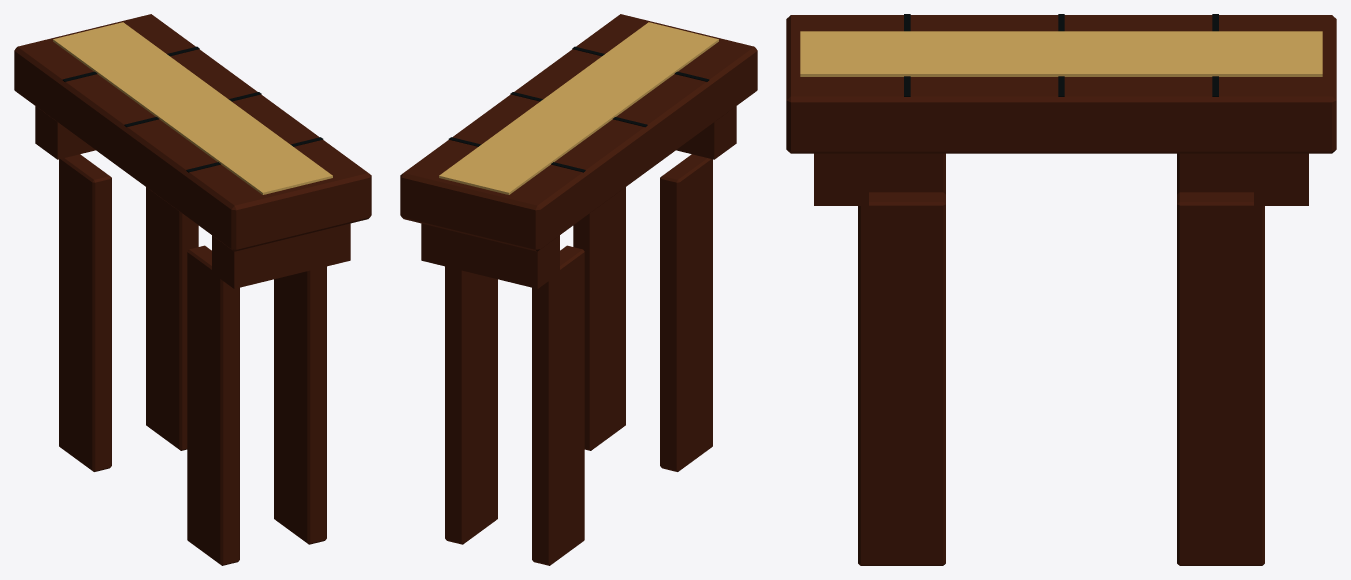
The model's file is panel_r5_restaurant_service_table.fbx.
3 renders of one model, left to right at view 1: azimuth 30°, elevation 25°; view 2: azimuth 150°, elevation 25°; view 3: azimuth 270°, elevation 25°, orthographic. The views are drawn at different scales.
Visible parts, largest first — view 1: Part_0; view 2: Part_0; view 3: Part_0.
Boxes of the visible parts, box(x1,y1,x2,y2) form: Part_0: box(14, 14, 371, 565); Part_0: box(400, 14, 757, 565); Part_0: box(786, 14, 1336, 565).
Bounding box in the file's own units: 1.1 × 2.9 × 3.
